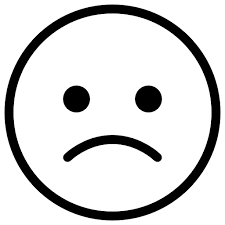triste: (1, 1, 221, 211), (53, 69, 182, 167)
